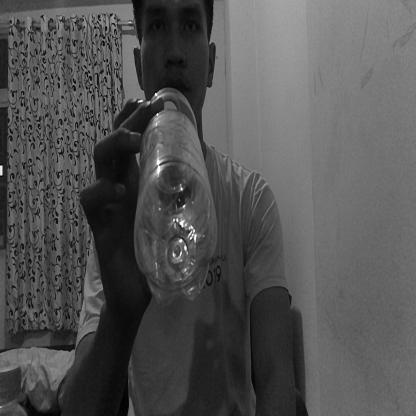plastic_bottles: (134, 86, 218, 308)
